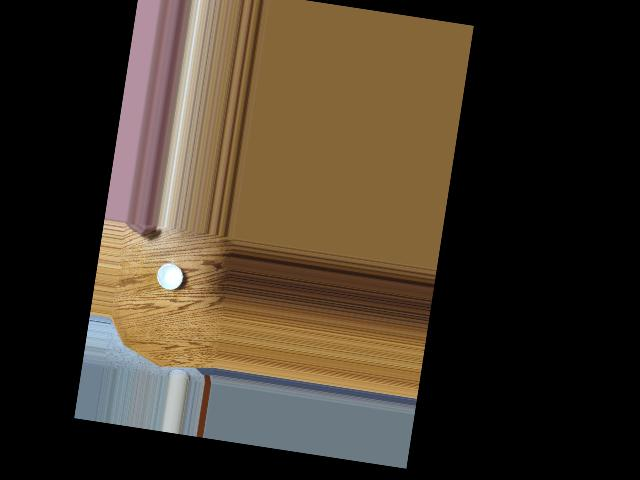cotage: (152, 258, 184, 291)
